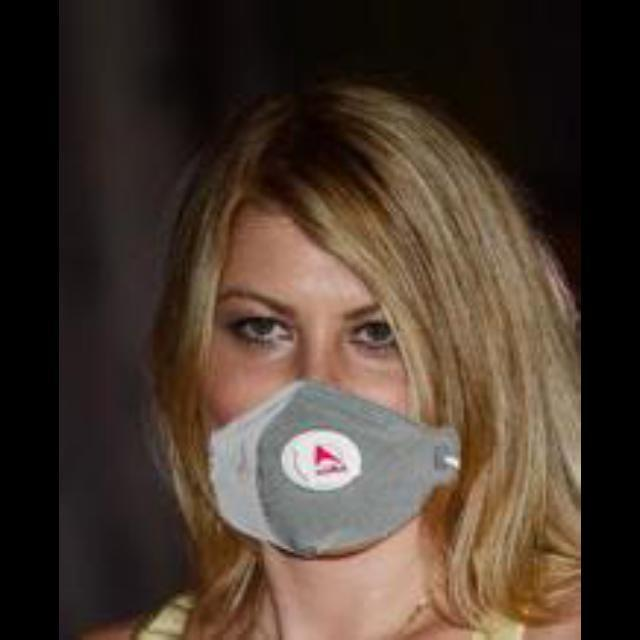suspicion: (178, 170, 504, 562)
